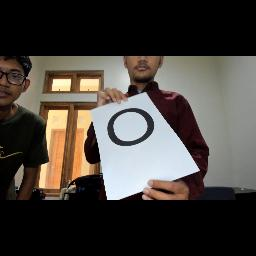o: (104, 100, 162, 158)
